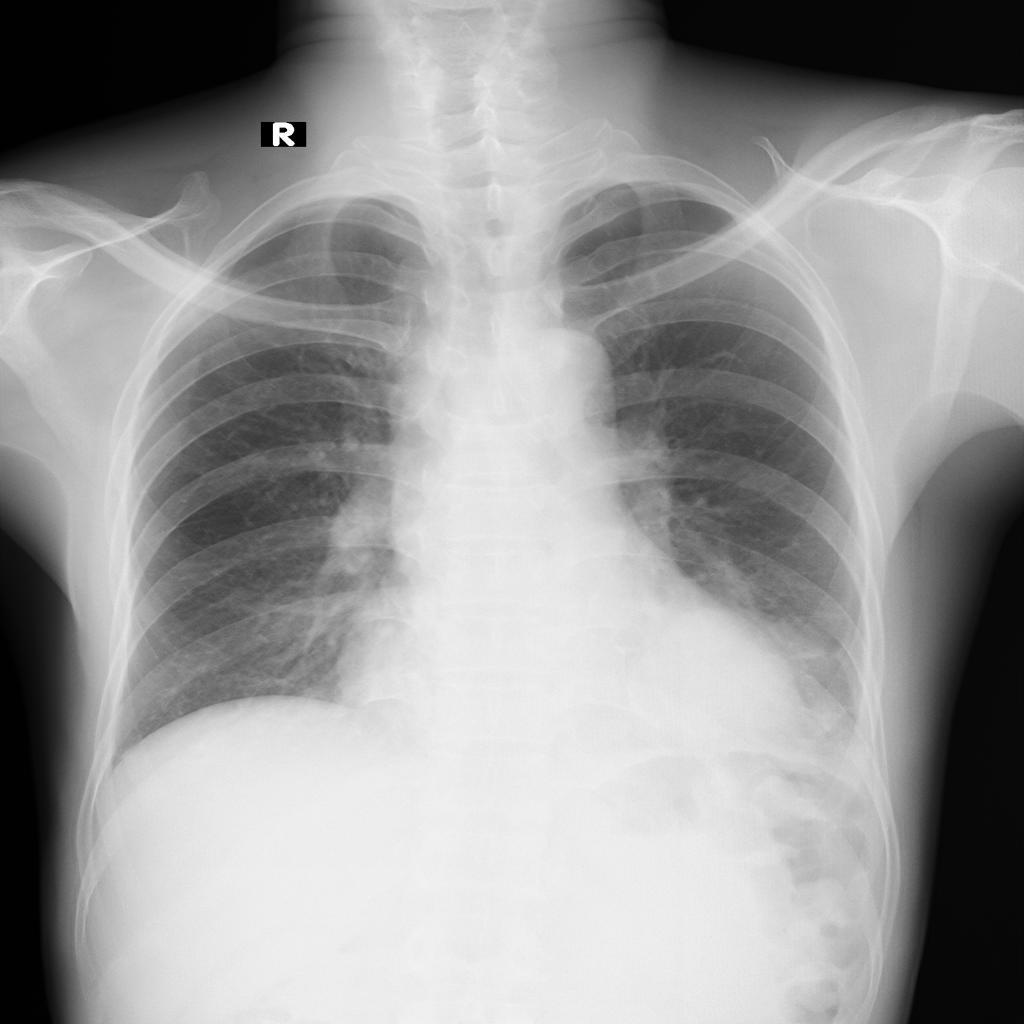Nodule: (626, 608, 804, 742)
